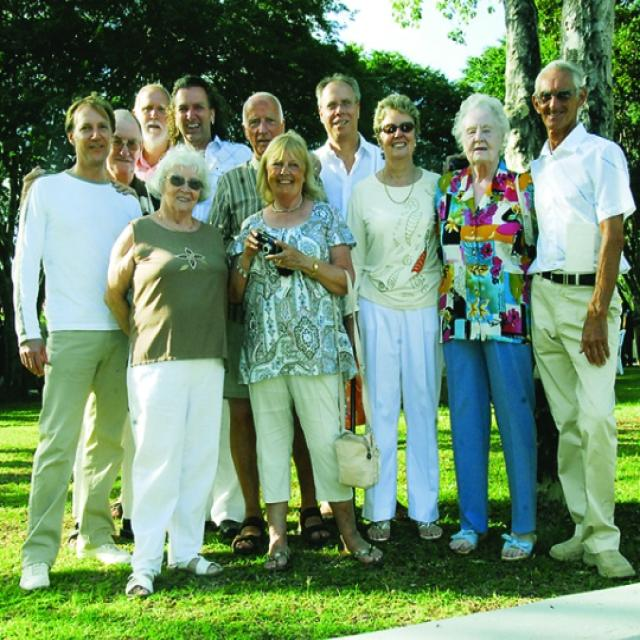body: (222, 131, 386, 572), (8, 93, 146, 594), (97, 140, 241, 602), (205, 88, 333, 557), (528, 59, 638, 582), (432, 90, 542, 563), (346, 91, 446, 545), (66, 105, 162, 547), (141, 74, 256, 227), (303, 70, 389, 226), (132, 82, 174, 182), (619, 301, 634, 366)
